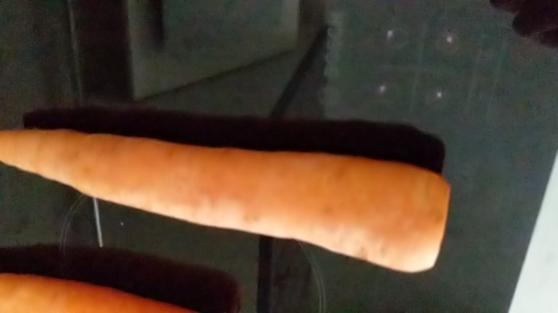carrot: (3, 110, 451, 273)
